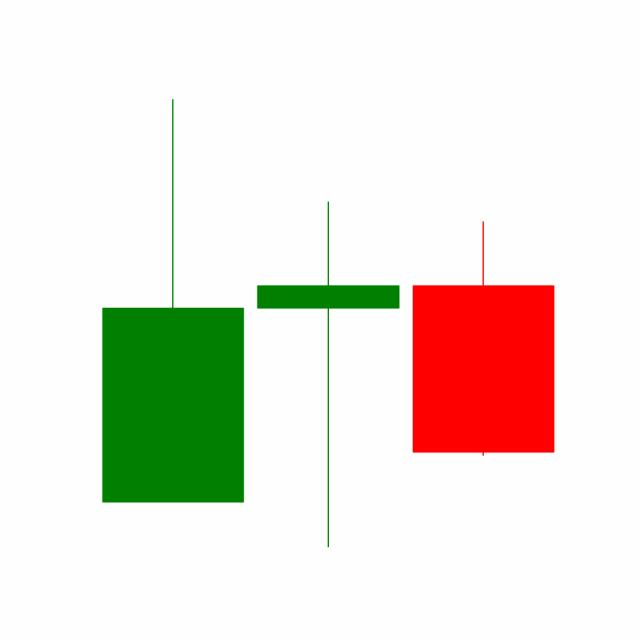Spinning Top: (249, 198, 406, 551)
